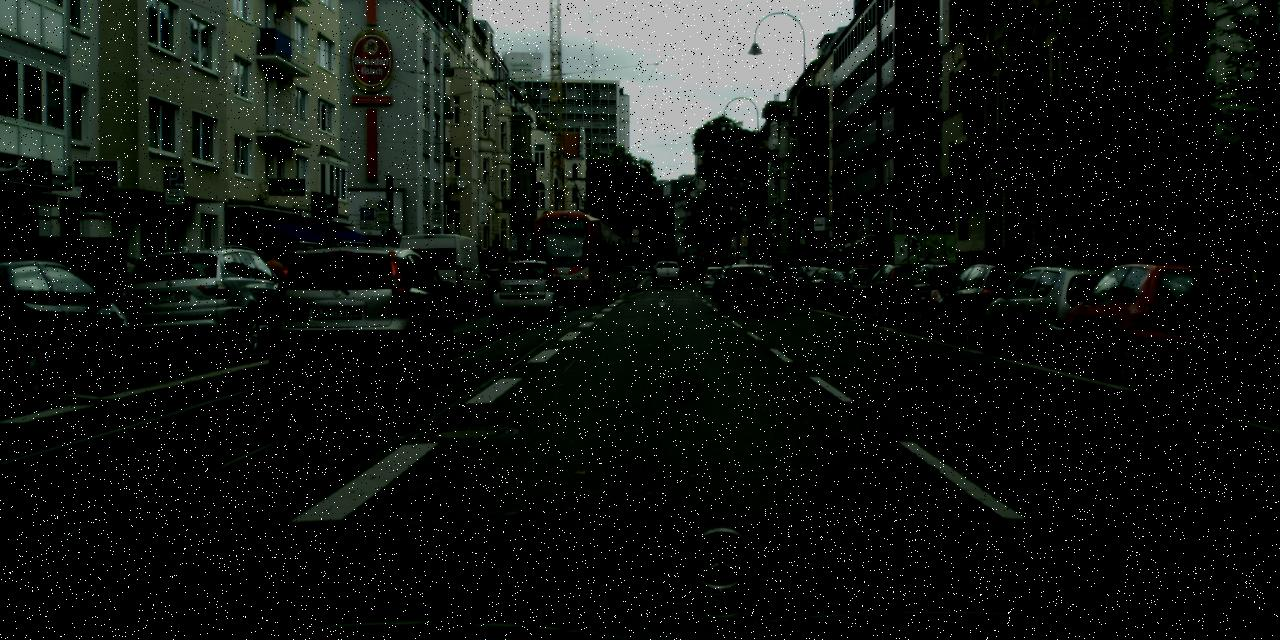ped: (0, 236, 26, 311), (259, 252, 285, 314), (916, 253, 935, 300), (934, 258, 951, 302), (822, 262, 834, 290), (778, 264, 788, 290)
